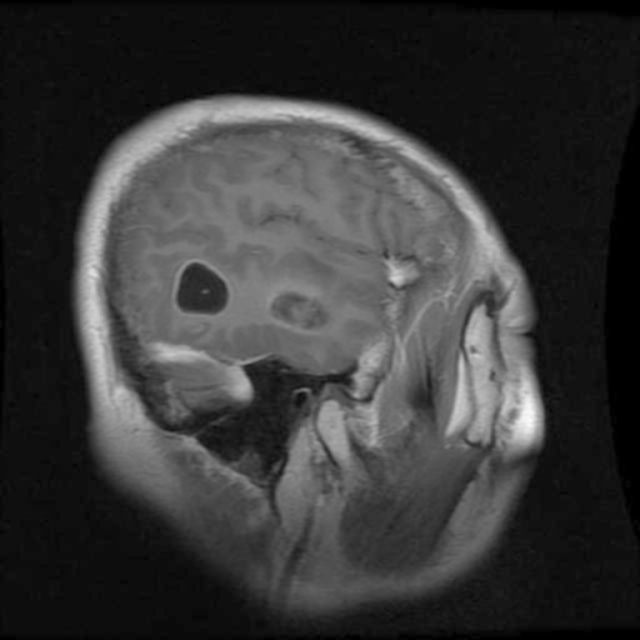pituitary tumor: (165, 260, 234, 312), (262, 294, 332, 332), (376, 252, 416, 288)
